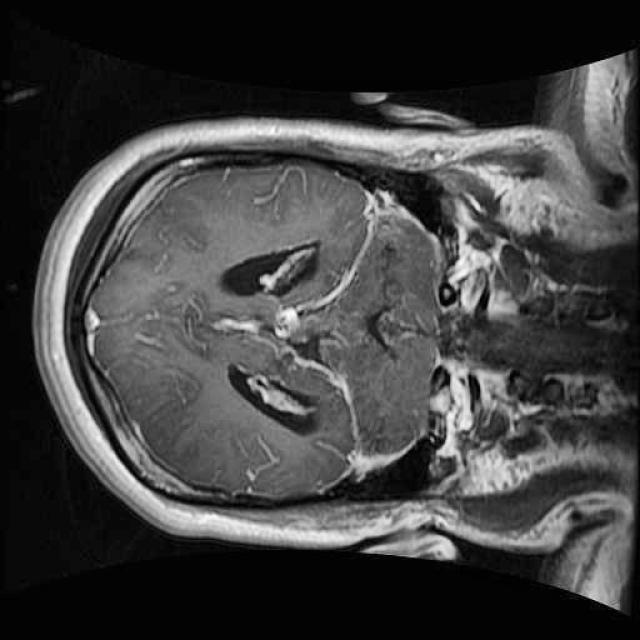Non-Tumor: (196, 268, 316, 370)
